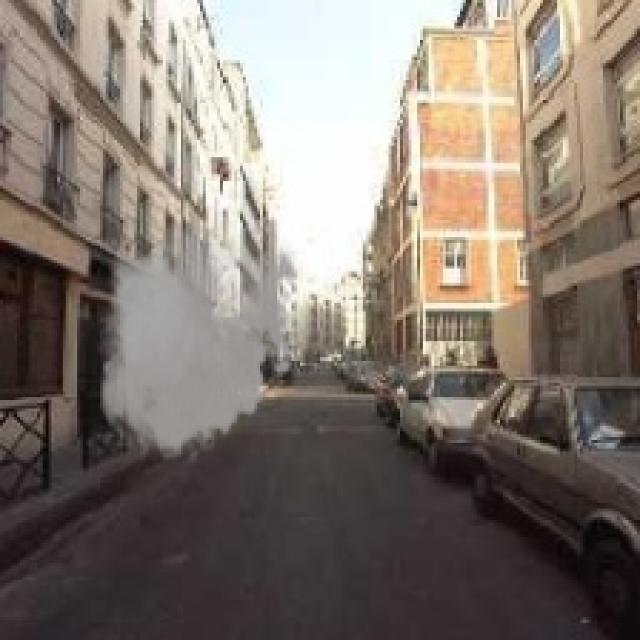smoke: (91, 208, 306, 468)
